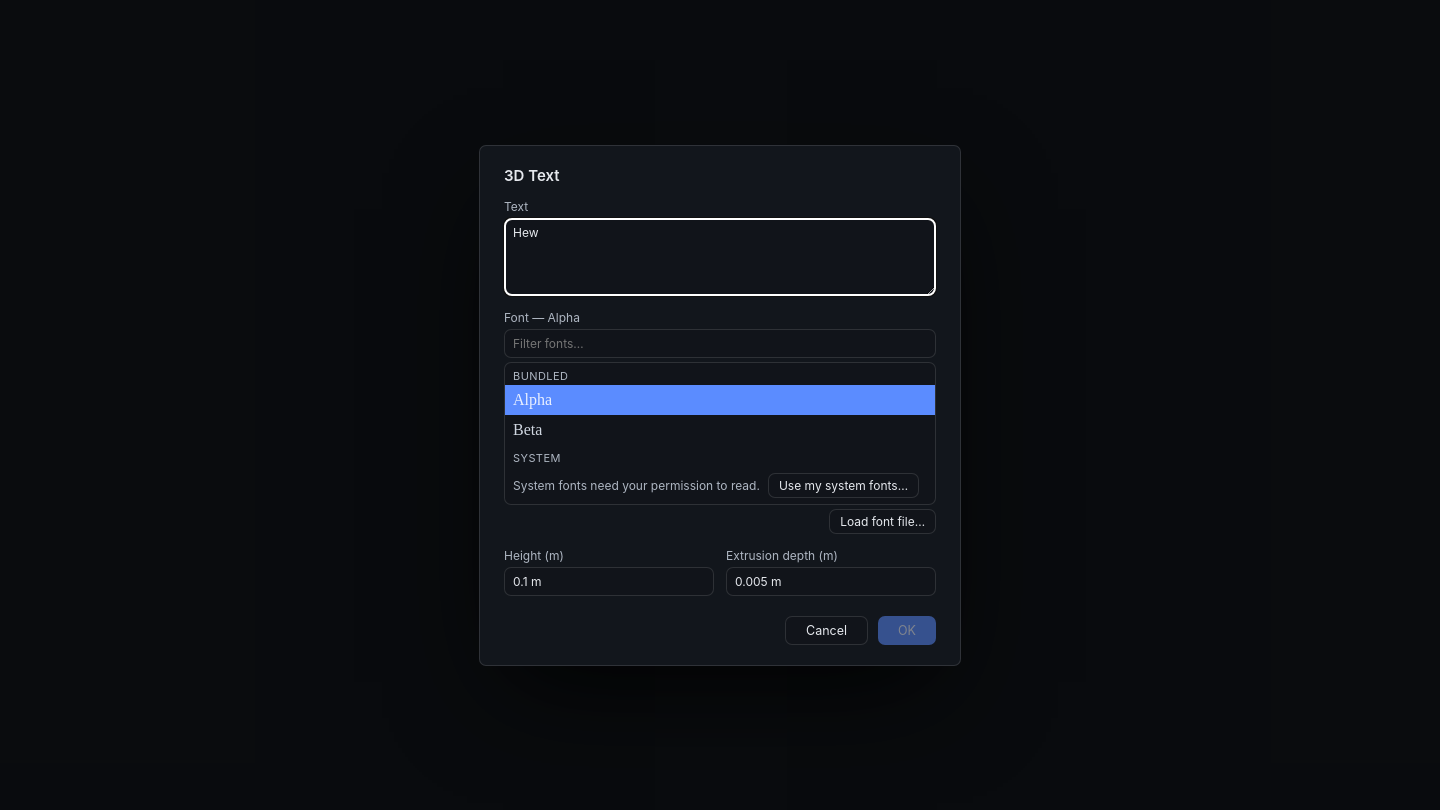
Test: TextDialog font picker › system fonts: web (queryLocalFonts) provider › a denied permission shows an honest note with a way to ask again, not an error toast
Expected: the text "Alpha" is shown, [513,390,552,408]
Click the button "Use my system fonts…": coordinates (843, 485) [768,472,919,498]
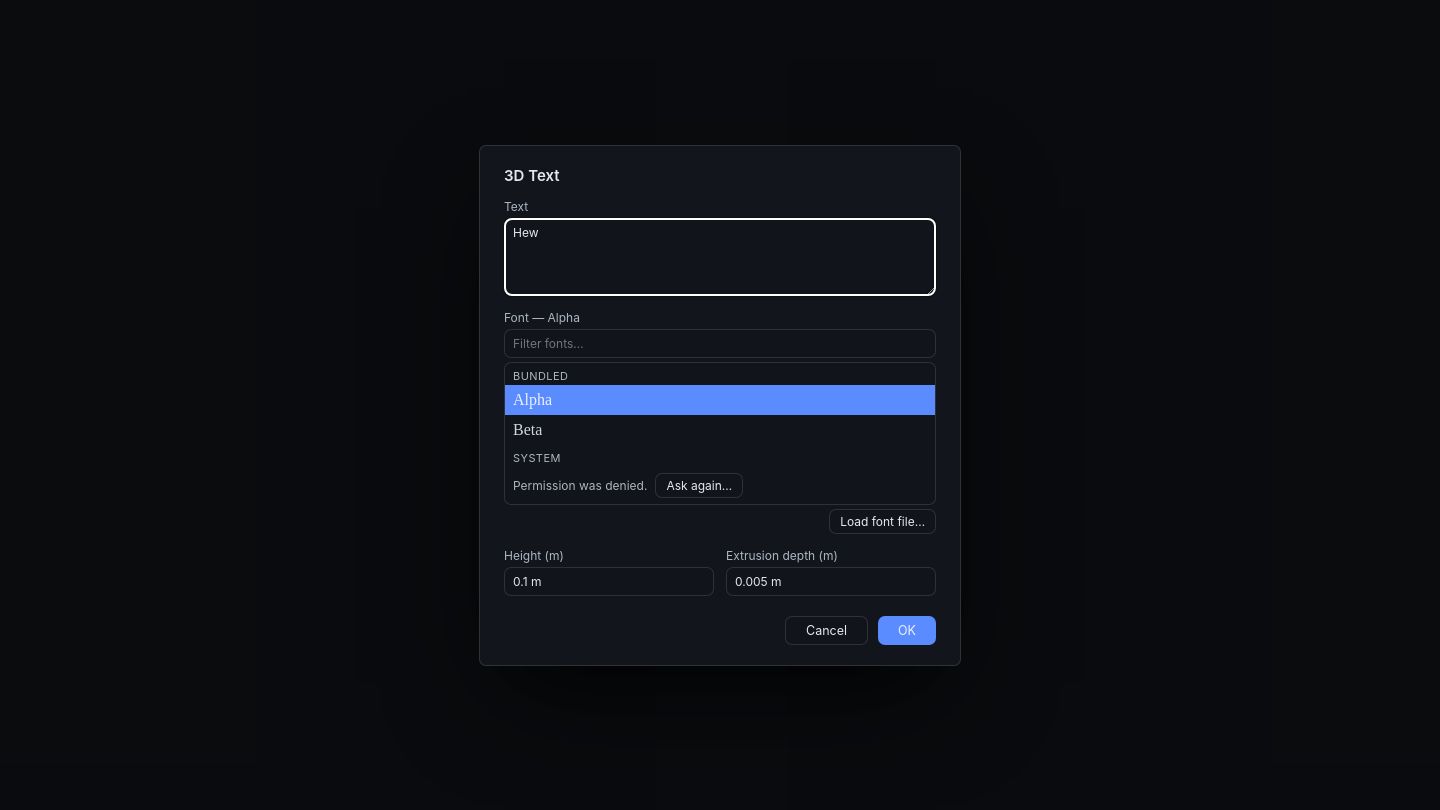
Now the text "Permission was denied." is shown, box [513,478,647,492]
Now the button "Ask again…" is shown, box [655,472,743,498]
